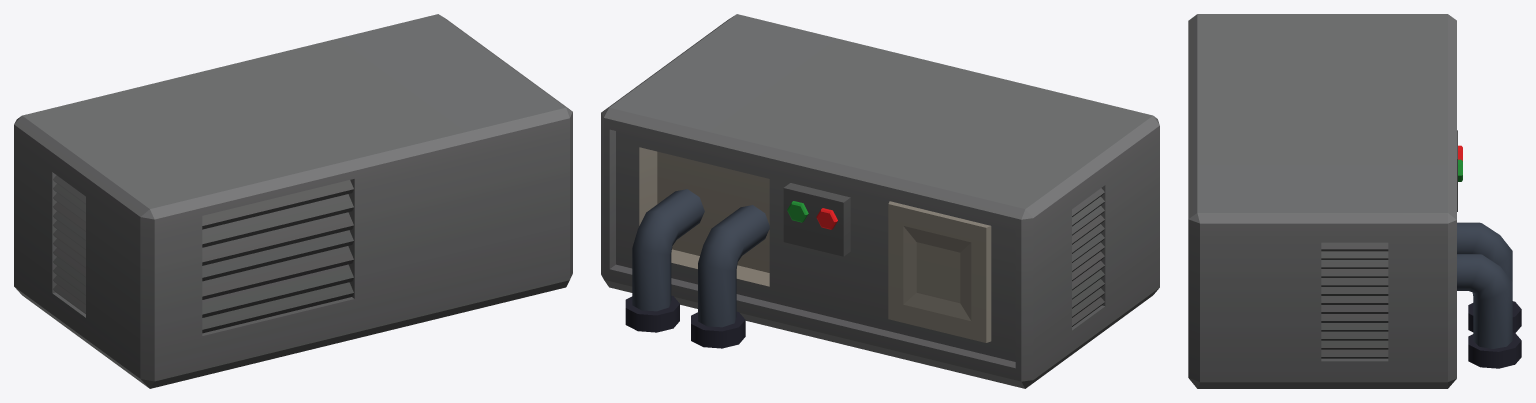
File: Vent_4_A.fbx
3 views of the same model, side by side, from view 1: azimuth 30°, elevation 25°; view 2: azimuth 150°, elevation 25°; view 3: azimuth 270°, elevation 25° (orthographic). The views are drawn at different scales.
Parts seen in each view (by area): view 1: Vent_4_A; view 2: Vent_4_A; view 3: Vent_4_A.
Part boxes in pixels (box(x1,y1,x2,y2)): Vent_4_A: box(14, 14, 572, 388); Vent_4_A: box(601, 14, 1159, 388); Vent_4_A: box(1188, 14, 1521, 388).
Bounding box in the file's own units: 101 × 40.11 × 68.82.
